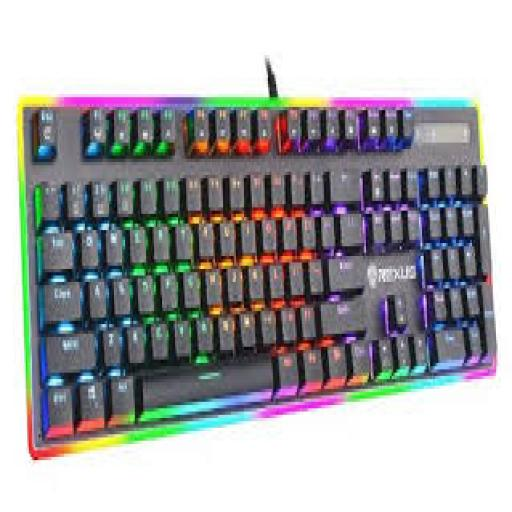keyboard: (19, 104, 496, 454)
